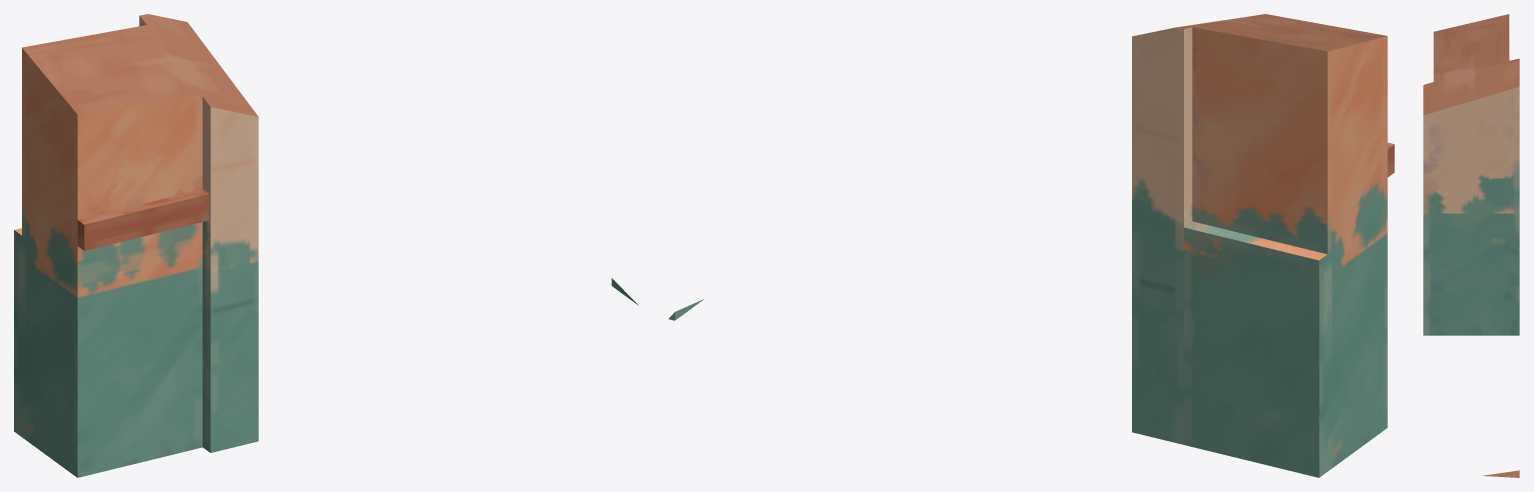
The model's file is wall2_door_s05.fbx.
3 renders of one model, left to right at view 1: azimuth 30°, elevation 25°; view 2: azimuth 150°, elevation 25°; view 3: azimuth 270°, elevation 25°, orthographic. The views are drawn at different scales.
Visible parts, largest first — view 1: wall2_door_s05; view 2: wall2_door_s05; view 3: wall2_door_s05.
Boxes of the visible parts, x1,y1,x2,y2 form: wall2_door_s05: (14, 14, 638, 477); wall2_door_s05: (668, 14, 1394, 477); wall2_door_s05: (1423, 14, 1519, 477).
Bounding box in the file's own units: 6.26 × 3.87 × 1.28.
